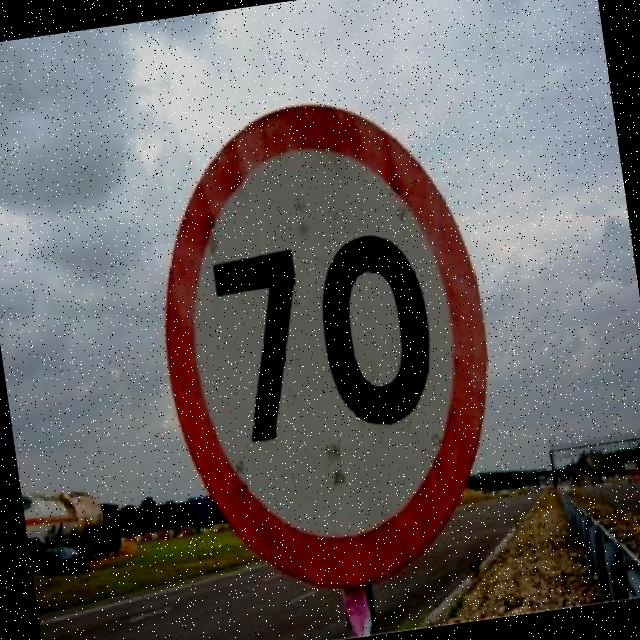Ograniczenie predkosci do 70: (170, 130, 486, 550)
